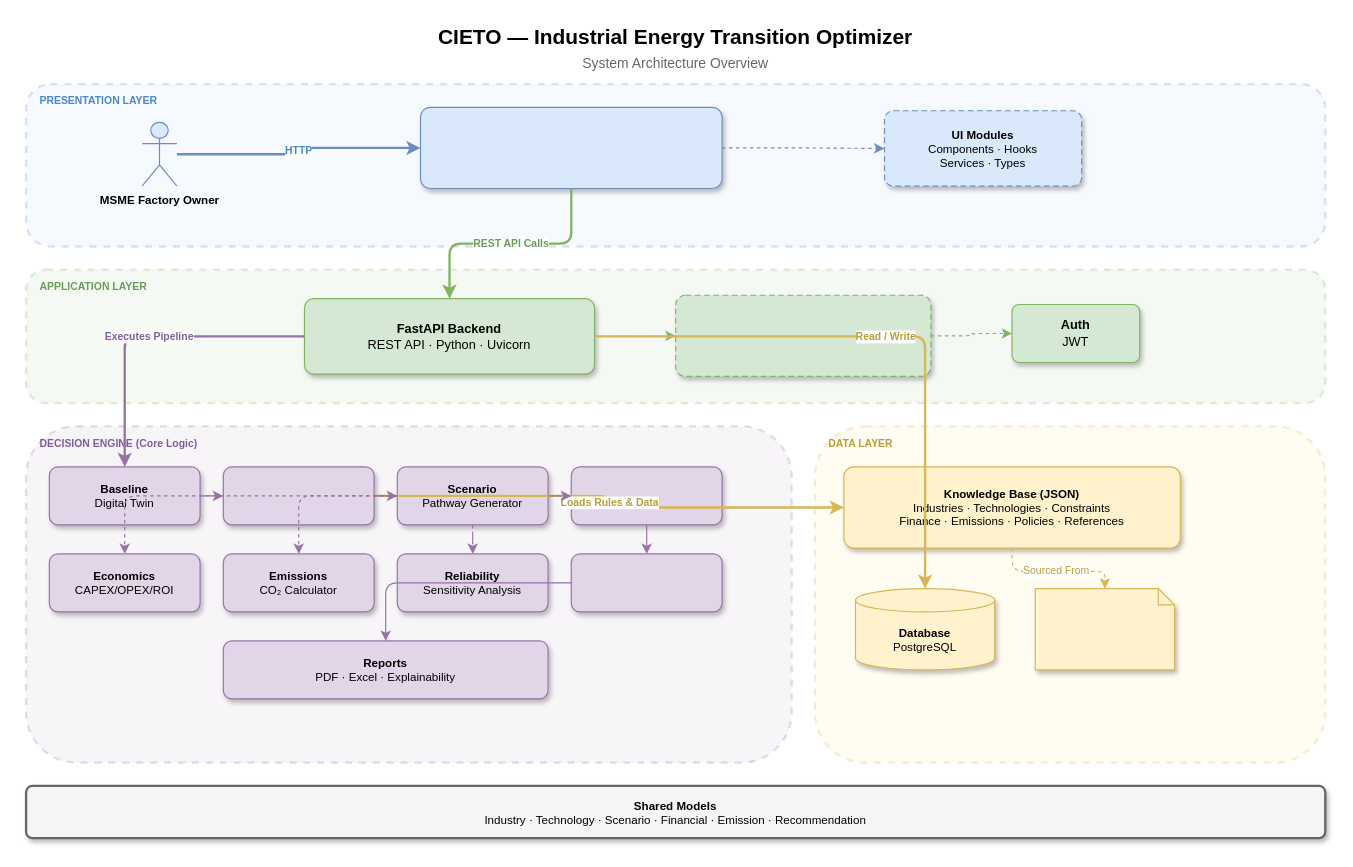
Image size: 1353x867. Some labels were removed from this diagram. Each missing label, with the centre of its shape:
API Endpoints /optimize · /report · /scenario /technologies · /policy · /health: pixel 804 337
Datasets CSV · Tariffs Biomass Atlas: pixel 1105 630
Next.js Frontend App Router · TypeScript · Tailwind CSS: pixel 572 149
Optimizer MCDA Ranking: pixel 647 497
Policy Subsidy Engine: pixel 647 584
Technology Feasibility Filter: pixel 299 497
